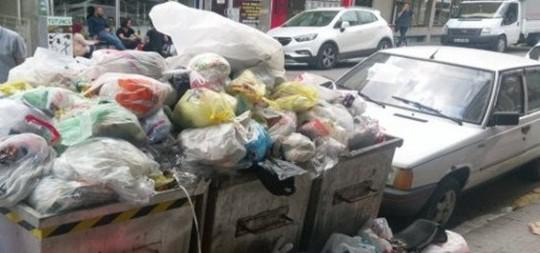Container: (10, 204, 196, 253), (213, 173, 312, 253), (316, 143, 393, 224)
Garbage: (3, 53, 203, 186), (150, 6, 278, 117), (184, 82, 370, 153), (331, 228, 467, 253)
